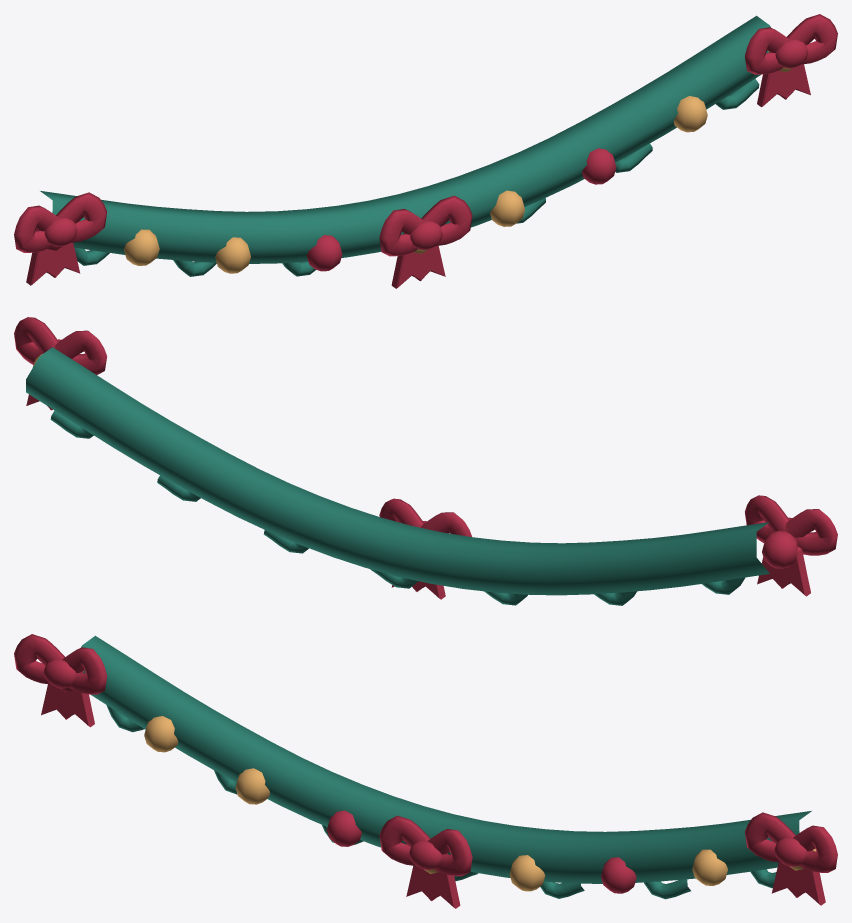
Rendered from storybook-christmas-market-evergreen-mantel-swag-c320f82f__19708.glb.
3 views of the same model, one above another, from view 1: azimuth 30°, elevation 25°; view 2: azimuth 150°, elevation 25°; view 3: azimuth 330°, elevation 25° (orthographic).
Parts seen in each view (by area): view 1: evergreen-mantel-swag; view 2: evergreen-mantel-swag; view 3: evergreen-mantel-swag.
Part boxes in pixels (left/top/right/bottom): evergreen-mantel-swag: left=14, top=14, right=837, bottom=288; evergreen-mantel-swag: left=14, top=317, right=837, bottom=605; evergreen-mantel-swag: left=14, top=634, right=837, bottom=908.
Bounding box in the file's own units: 2.71 × 0.5477 × 0.2321.
